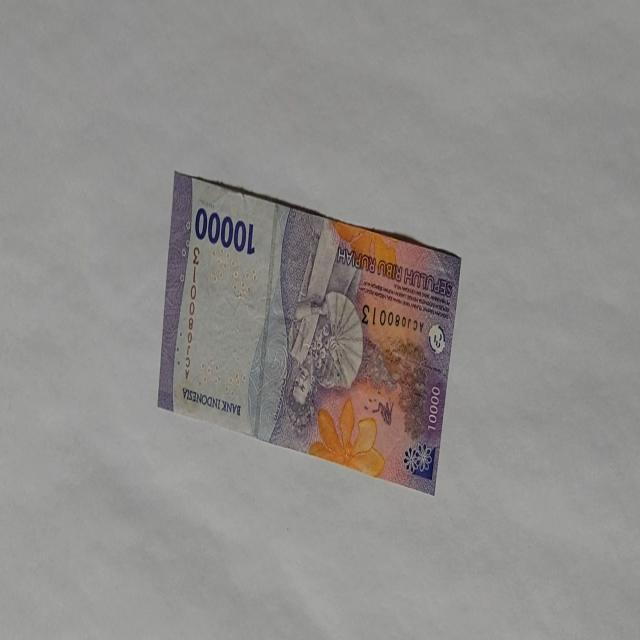sepuluh ribu rupiah: (156, 169, 462, 497)
